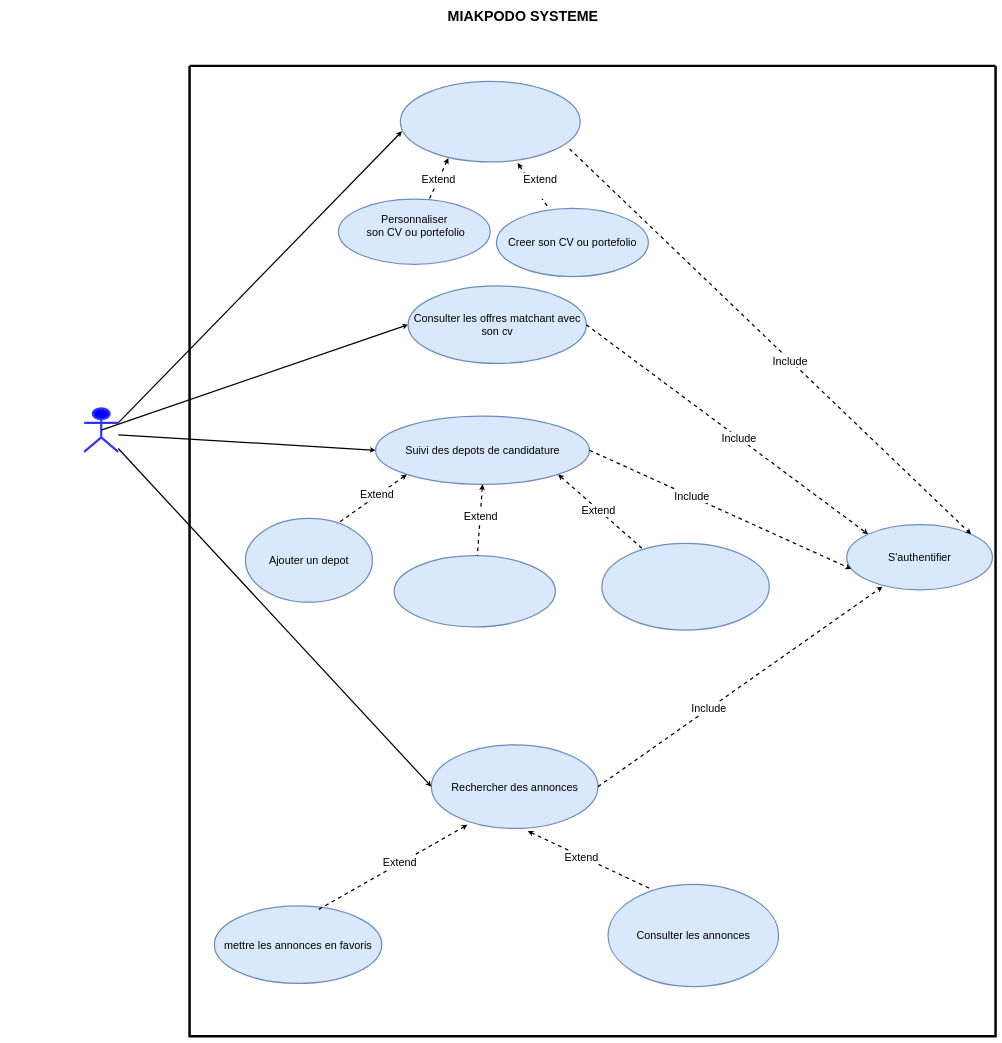
This 1002x1043 diagram has some shape labels left out. Here are the shapes that lost their labels. From the top down, the centre of each, then its label:
At point (490, 121): "Creer son profil".
At point (101, 430): "Utilisateur consultant les annonces".
At point (474, 591): "Consulter les dates de depots".
At point (685, 586): "Consulter le statut de validiter d'une annonce".
